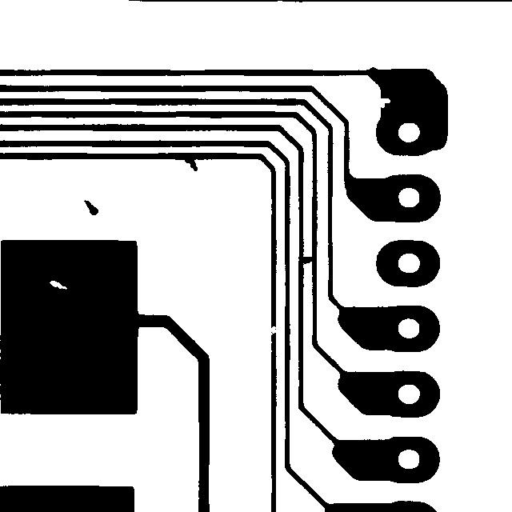copper: (76, 192, 106, 222)
mousebite: (372, 90, 398, 115)
open: (258, 318, 285, 343)
pin-hole: (42, 273, 74, 297)
short: (290, 248, 322, 271)
spur: (177, 145, 205, 178)
